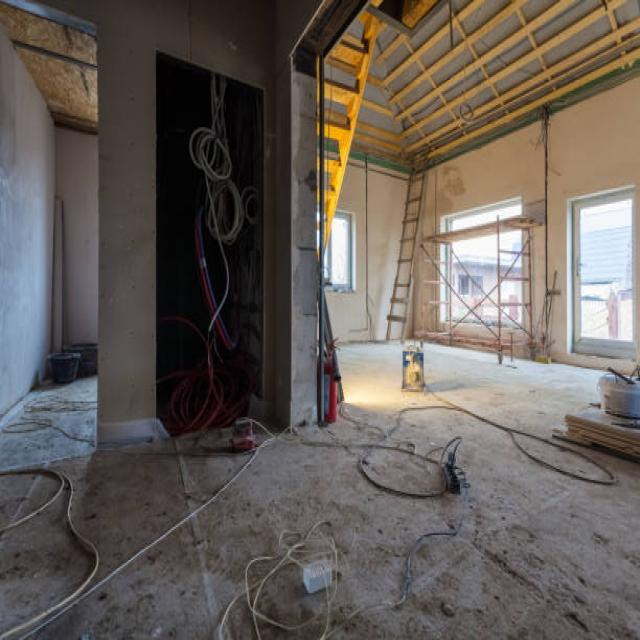floor: (0, 338, 640, 640)
wall: (24, 0, 276, 425), (413, 120, 546, 339), (547, 77, 640, 365), (0, 25, 55, 419), (275, 0, 325, 426), (290, 56, 318, 426), (55, 125, 100, 345), (367, 162, 411, 343), (324, 157, 366, 345), (351, 212, 355, 292), (397, 263, 412, 284), (409, 180, 423, 200), (423, 265, 440, 280), (403, 221, 417, 239), (406, 201, 420, 219), (390, 321, 403, 340), (392, 303, 408, 318), (423, 285, 438, 301), (400, 242, 414, 259), (424, 243, 435, 260), (394, 287, 408, 299)
